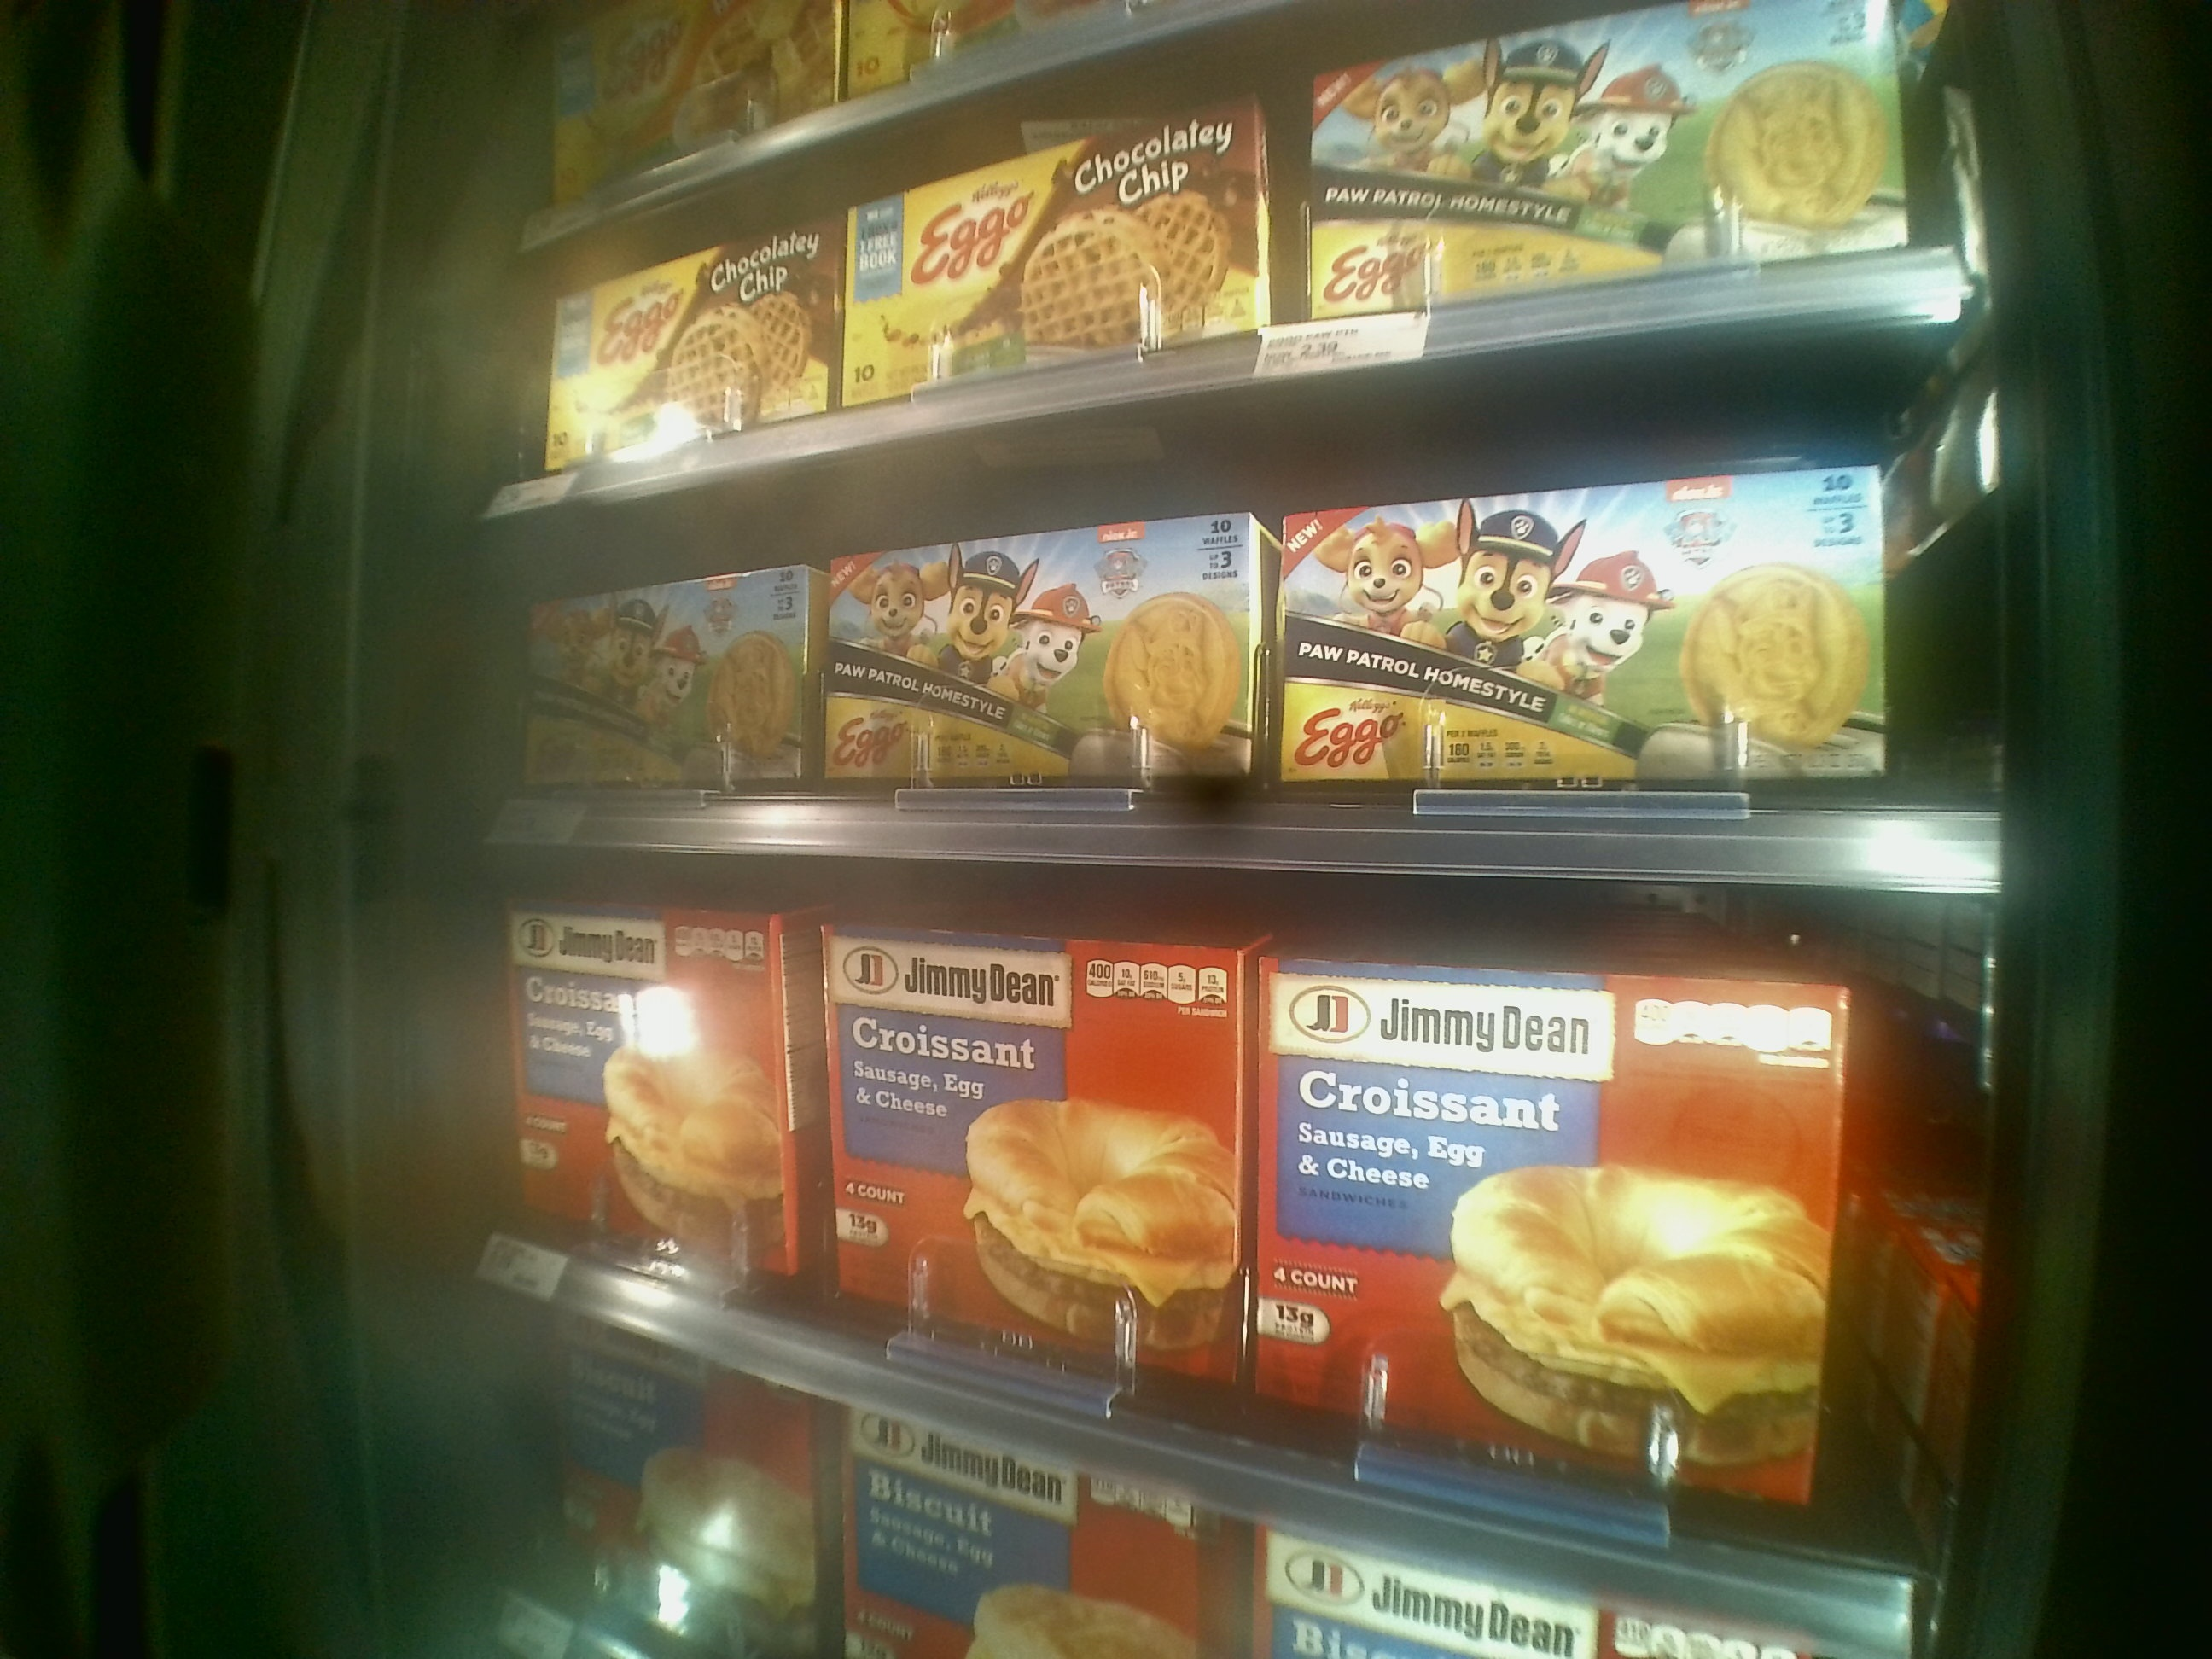shelf: (474, 864, 1998, 1642), (474, 291, 1991, 899)
